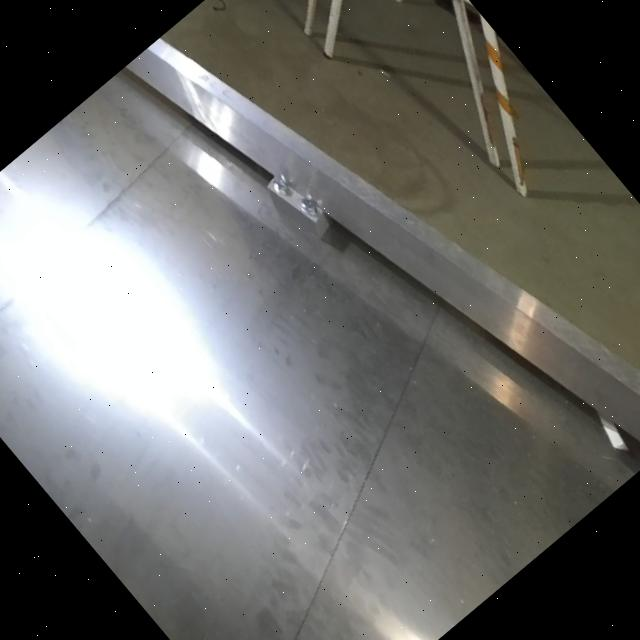blocks: (249, 151, 359, 269)
